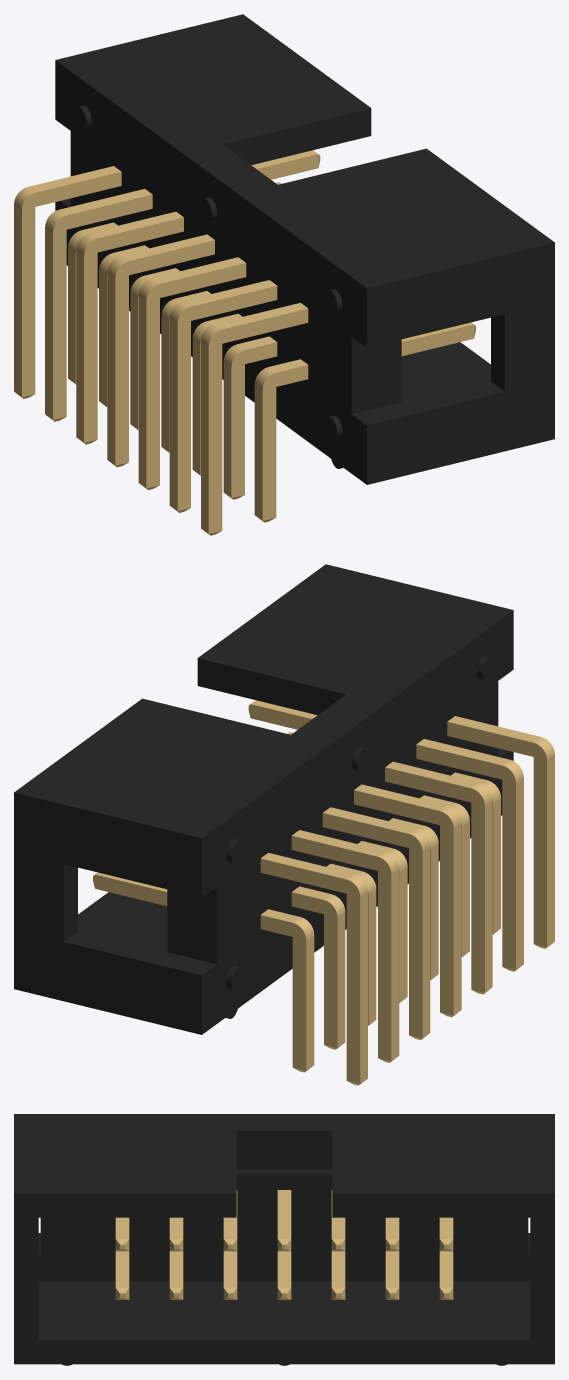
File: kc-idc-header_2x07_p2.54mm_horizontal.glb
3 renders of one model, top to bottom at view 1: azimuth 30°, elevation 25°; view 2: azimuth 150°, elevation 25°; view 3: azimuth 270°, elevation 25°, orthographic. The views are drawn at different scales.
Parts seen in each view (by area): view 1: 0_0_0_0, 0.75_0.5_0.25_0.9; view 2: 0_0_0_0, 0.75_0.5_0.25_0.9; view 3: 0_0_0_0, 0.75_0.5_0.25_0.9.
Part boxes in pixels (x1=…): 0_0_0_0: x1=55, y1=14, x2=554, y2=484; 0.75_0.5_0.25_0.9: x1=14, y1=150, x2=475, y2=535; 0_0_0_0: x1=14, y1=564, x2=513, y2=1034; 0.75_0.5_0.25_0.9: x1=93, y1=700, x2=554, y2=1085; 0_0_0_0: x1=14, y1=1114, x2=554, y2=1365; 0.75_0.5_0.25_0.9: x1=115, y1=1190, x2=453, y2=1299.
Bounding box in the file's own units: 1.36 × 1.21 × 2.54.
